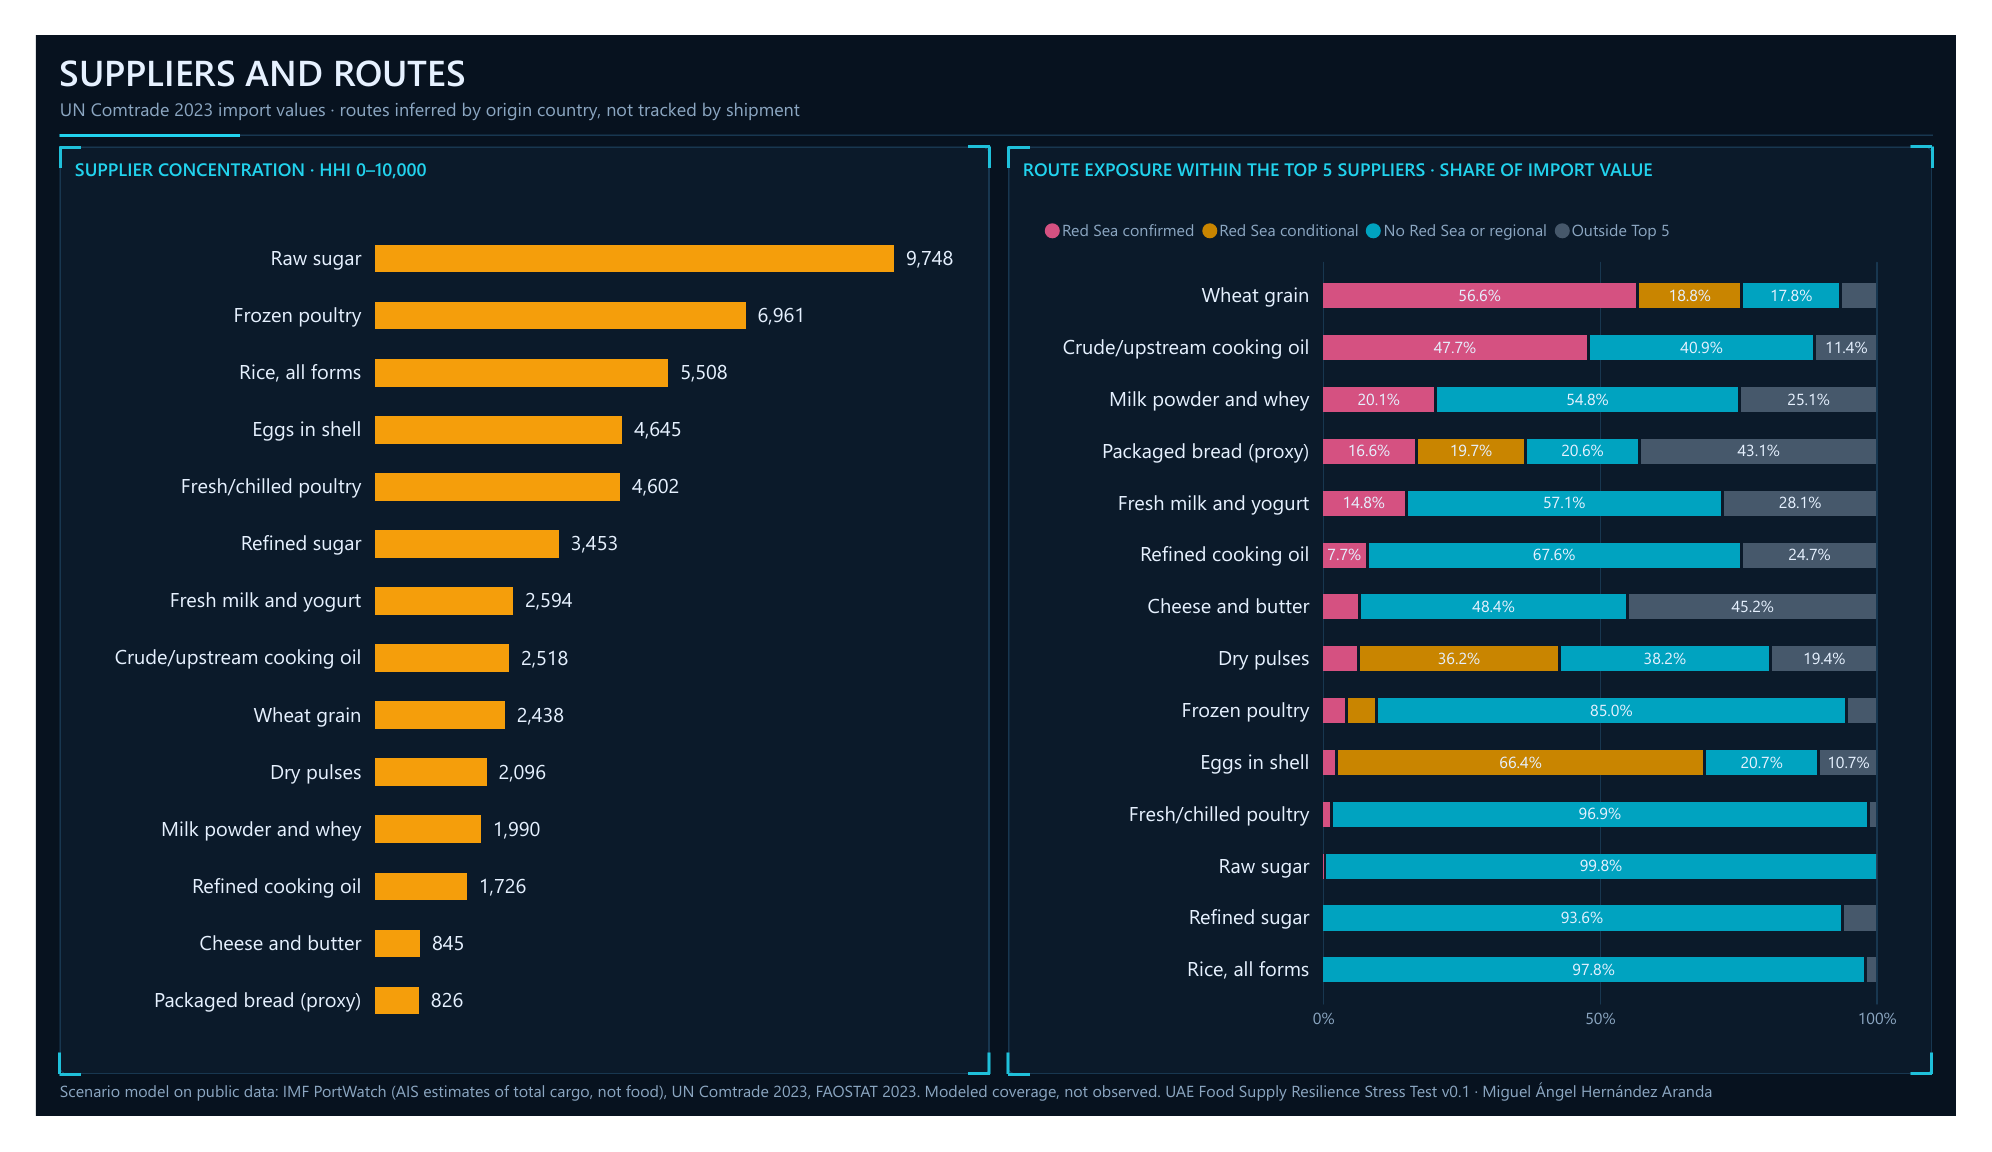

This screenshot's page, from the dashboard's own definition file:
{"tool":"powerbi","page":{"name":"Suppliers and routes","canvas":[1280,720],"ordinal":4},"visuals":[{"type":"textbox","box":[16,8,900,34],"z":0},{"type":"textbox","box":[16,40,900,22],"z":1000},{"type":"textbox","box":[16,694,1248,24],"z":2000},{"type":"textbox","box":[26,80,600,26],"z":3000},{"type":"clusteredBarChart","fields":{"Category":["supplier_concentration.supplier_group_name"],"Y":["_Measures.HHI"]},"box":[24,102,604,582],"z":4000},{"type":"textbox","box":[658,80,596,26],"z":5000},{"type":"barChart","fields":{"Category":["supplier_concentration.supplier_group_name"],"Y":["_Measures.Red Sea confirmed","_Measures.Red Sea conditional","_Measures.No Red Sea or regional","_Measures.Outside Top 5"]},"box":[656,102,600,582],"z":6000}]}

Visuals, with their boxes in screenshot pixels (x1, y1, x2, y2), scaled from the page's 1280x720 canvas onto the 1992x1152 screenshot:
textbox: {"left": 25, "top": 13, "right": 1426, "bottom": 67}
textbox: {"left": 25, "top": 64, "right": 1426, "bottom": 99}
textbox: {"left": 25, "top": 1110, "right": 1967, "bottom": 1149}
textbox: {"left": 40, "top": 128, "right": 974, "bottom": 170}
clusteredBarChart - supplier_concentration.supplier_group_name x _Measures.HHI: {"left": 37, "top": 163, "right": 977, "bottom": 1094}
textbox: {"left": 1024, "top": 128, "right": 1952, "bottom": 170}
barChart - supplier_concentration.supplier_group_name x _Measures.Red Sea confirmed: {"left": 1021, "top": 163, "right": 1955, "bottom": 1094}
